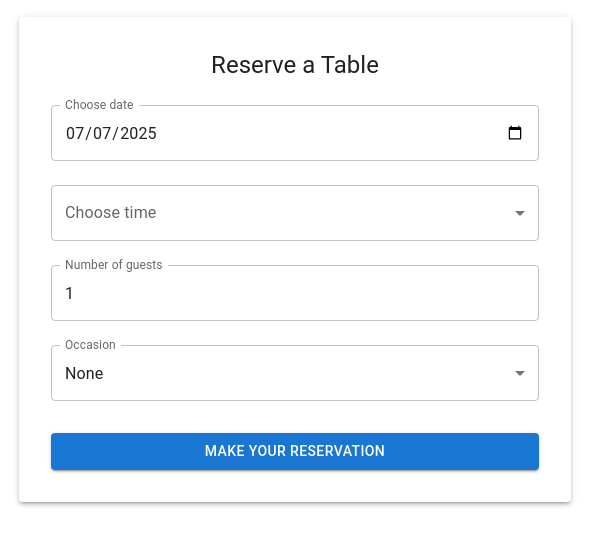
Test: BookingFormMUI › displays error messages for empty fields
Click the button with test id "submit-button" at [295, 452], box left=51, top=433, right=539, bottom=470
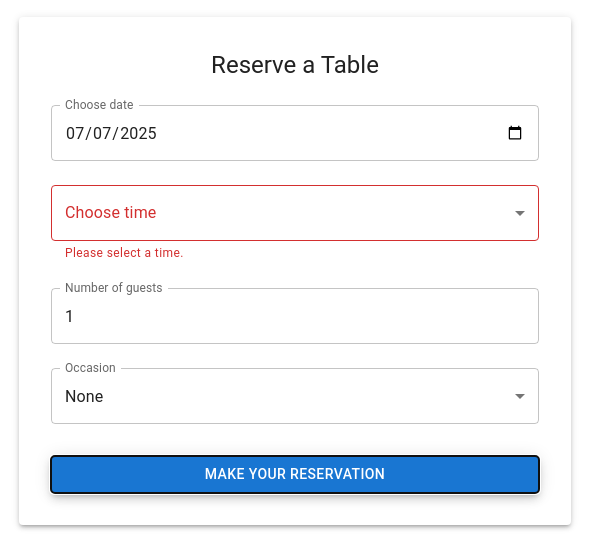
Expected: the text "Please select a time." is shown, left=65, top=246, right=184, bottom=260
